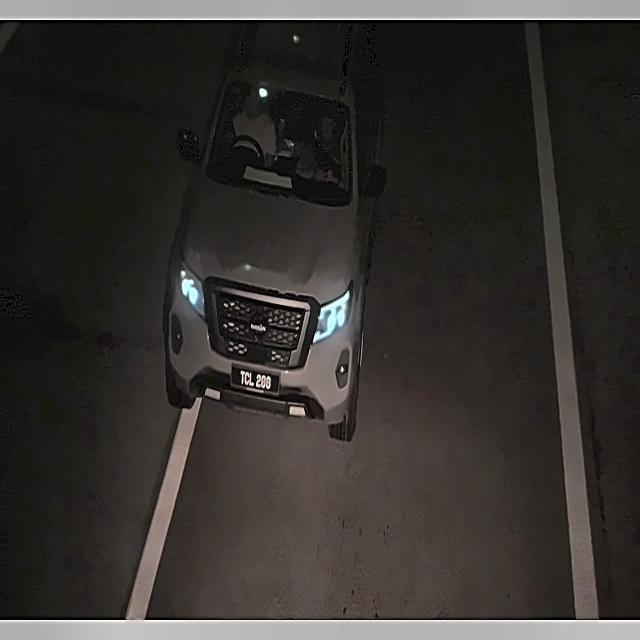car: (229, 363, 277, 403)
